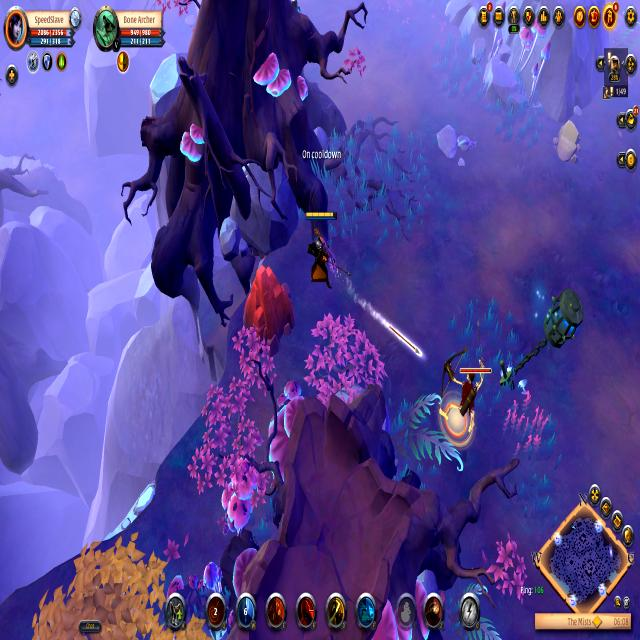10: (501, 286, 586, 388)
ore: (438, 344, 489, 453)
red: (300, 205, 338, 292)
tree: (240, 256, 296, 350)
wisp caged: (23, 532, 176, 640)
